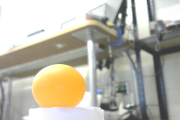PingPongBall: (34, 65, 85, 108)
